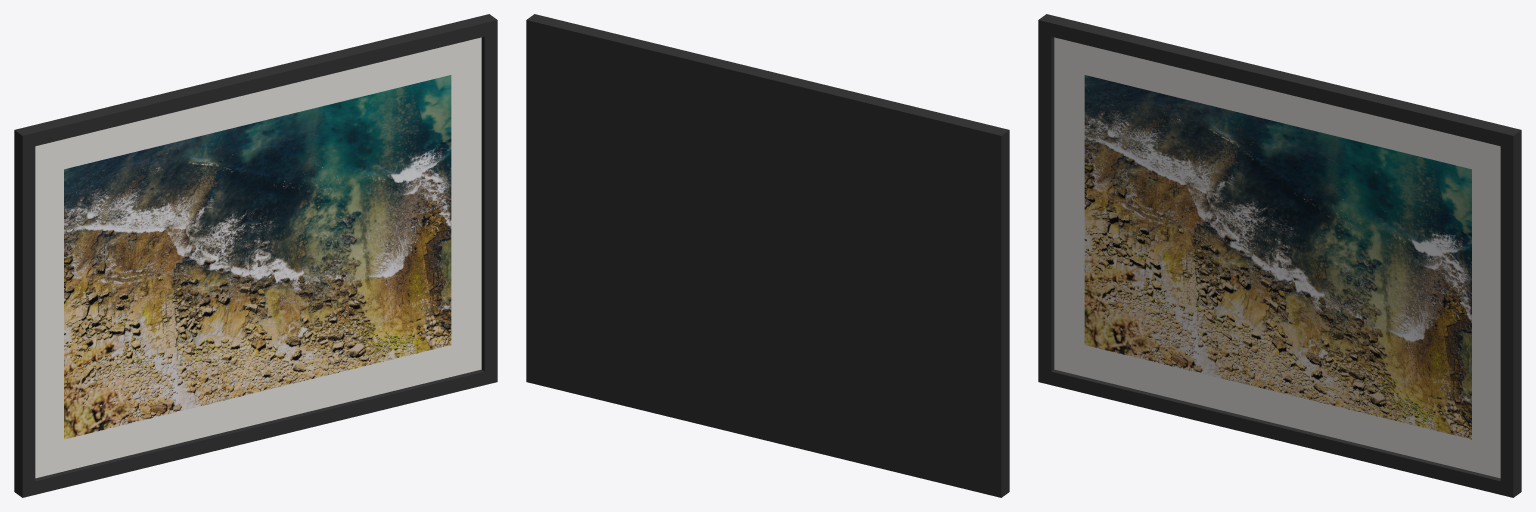
File: kusten-60.gltf
The picture shows the model from 3 angles, left to right: view 1: azimuth 30°, elevation 25°; view 2: azimuth 150°, elevation 25°; view 3: azimuth 330°, elevation 25°; orthographic projection.
Parts seen in each view (by area): view 1: tavla; view 2: tavla; view 3: tavla.
Part boxes in pixels (<box>): tavla: <box>14,14,497,497</box>; tavla: <box>526,14,1009,497</box>; tavla: <box>1038,14,1521,497</box>.
Size of the model in its own units: 0.736 by 0.536 by 0.022.
3 materials, 1 textured.
